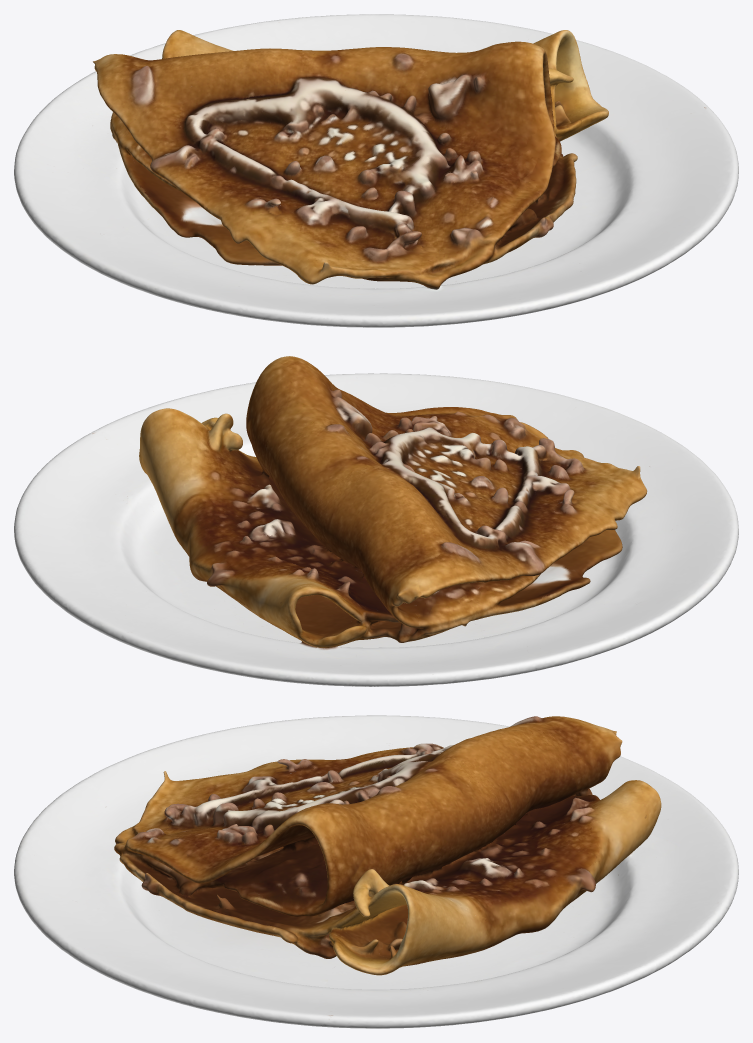
The model's file is Meshy_AI_Chocolate_Crepes_0919143723_texture.glb.
3 views of the same model, one above another, from view 1: azimuth 30°, elevation 25°; view 2: azimuth 150°, elevation 25°; view 3: azimuth 270°, elevation 25° (orthographic).
Size of the model in its own units: 1.9 by 0.4706 by 1.9.
Materials: 1 (1 with a texture image).
